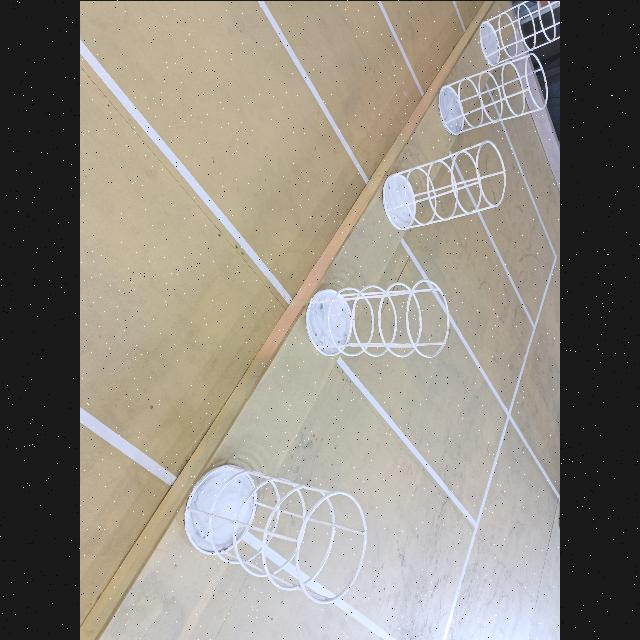S: (185, 466, 367, 605), (382, 142, 508, 233), (304, 279, 451, 356), (438, 53, 548, 132), (479, 0, 560, 66)
